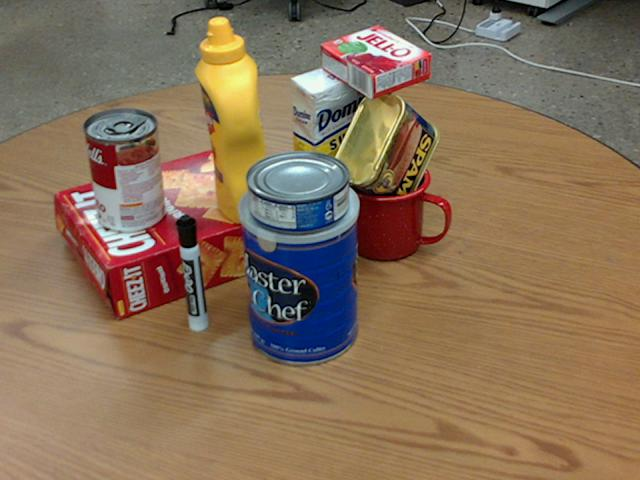cracker_box: (56, 145, 309, 320)
gelatin_box: (319, 26, 430, 98)
large_marker: (177, 215, 209, 331)
master_chef_can: (235, 170, 358, 363)
mug: (342, 154, 452, 260)
mustard_bottle: (194, 17, 274, 222)
potted_meat_can: (331, 90, 438, 212)
sugar_box: (290, 55, 383, 237)
tomato_soup_can: (83, 108, 164, 232)
tuna_fish_can: (245, 149, 348, 232)
